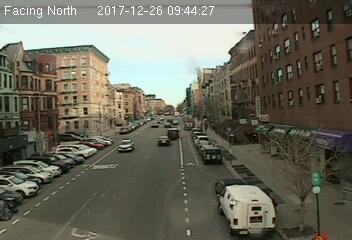car: (202, 148, 222, 164), (117, 139, 135, 153), (166, 127, 178, 139), (158, 135, 169, 145)
truck: (218, 184, 280, 238)
